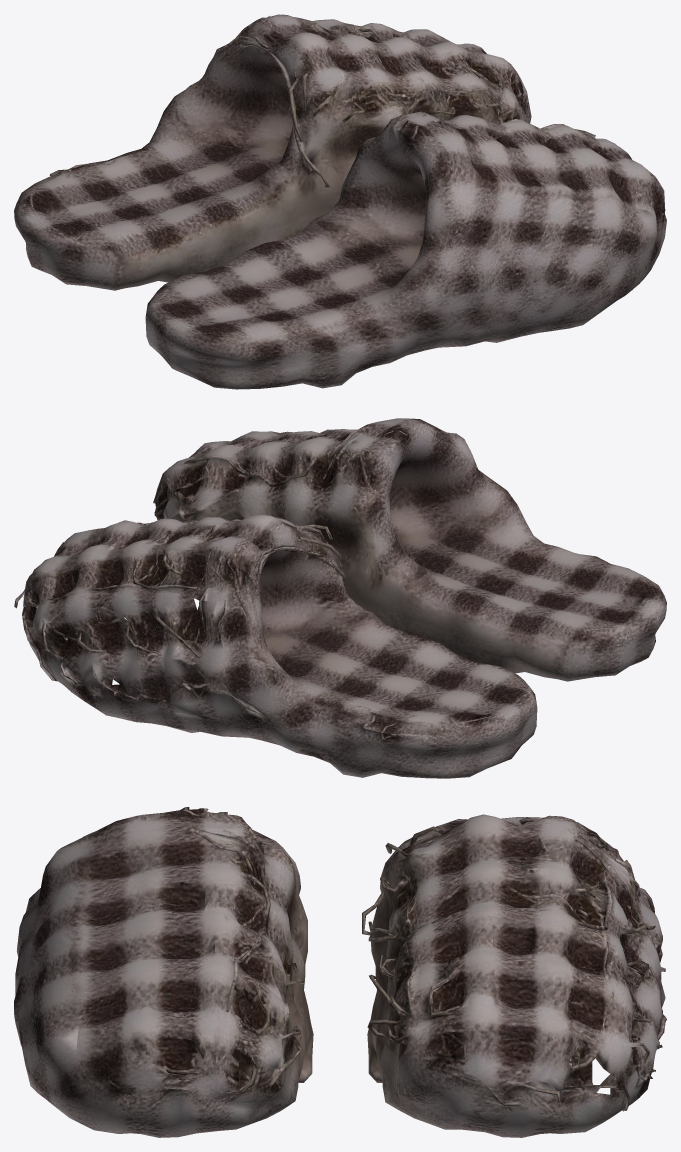
The model's file is slippers.glb.
3 views of the same model, one above another, from view 1: azimuth 30°, elevation 25°; view 2: azimuth 150°, elevation 25°; view 3: azimuth 270°, elevation 25° (orthographic). The views are drawn at different scales.
Visible parts, largest first — view 1: tripo_node_25e32941-c188-4160-a3b0-36f9a; view 2: tripo_node_25e32941-c188-4160-a3b0-36f9a; view 3: tripo_node_25e32941-c188-4160-a3b0-36f9a.
Boxes of the visible parts, box(x1,y1,x2,y2) form: tripo_node_25e32941-c188-4160-a3b0-36f9a: box(14, 14, 666, 389); tripo_node_25e32941-c188-4160-a3b0-36f9a: box(14, 418, 666, 778); tripo_node_25e32941-c188-4160-a3b0-36f9a: box(14, 807, 666, 1137).
Size of the model in its own units: 0.998 by 0.377 by 0.9238.
Materials: 1 (1 with a texture image).
